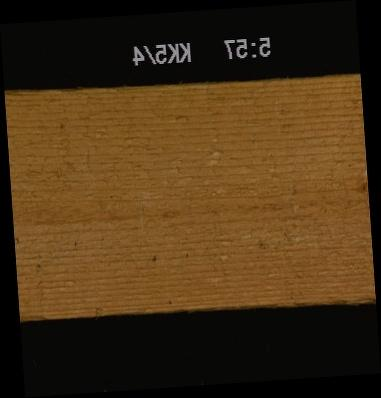small_knot: (357, 175, 367, 196)
wave: (19, 309, 53, 320)
